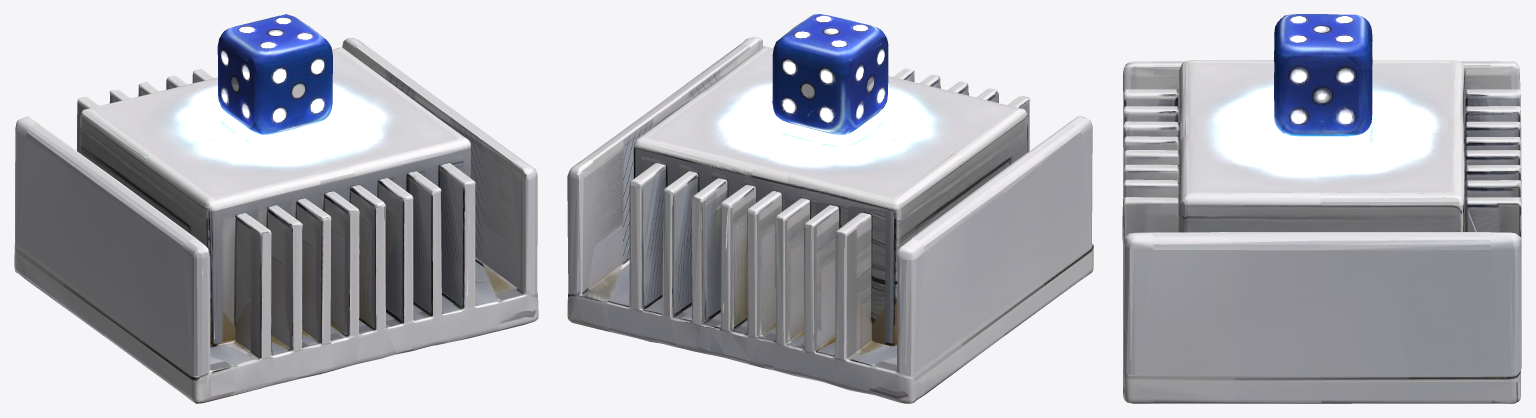
The model's file is heat_sink.glb.
3 views of the same model, side by side, from view 1: azimuth 30°, elevation 25°; view 2: azimuth 150°, elevation 25°; view 3: azimuth 270°, elevation 25° (orthographic). The views are drawn at different scales.
Bounding box in the file's own units: 1 × 0.7344 × 0.9297.
1 material, 1 textured.
